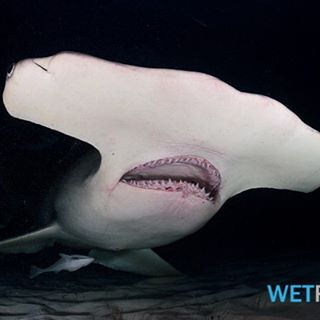shark: (5, 33, 315, 282)
